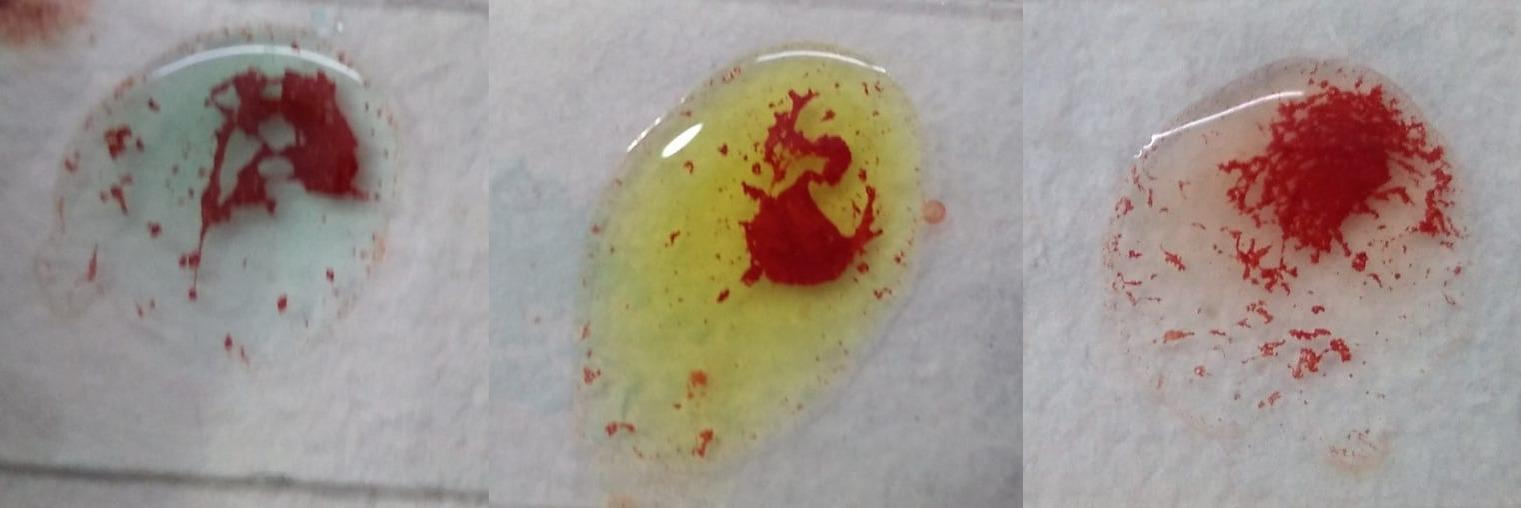A: (59, 26, 396, 374)
B: (576, 43, 896, 463)
D: (1109, 57, 1474, 430)
